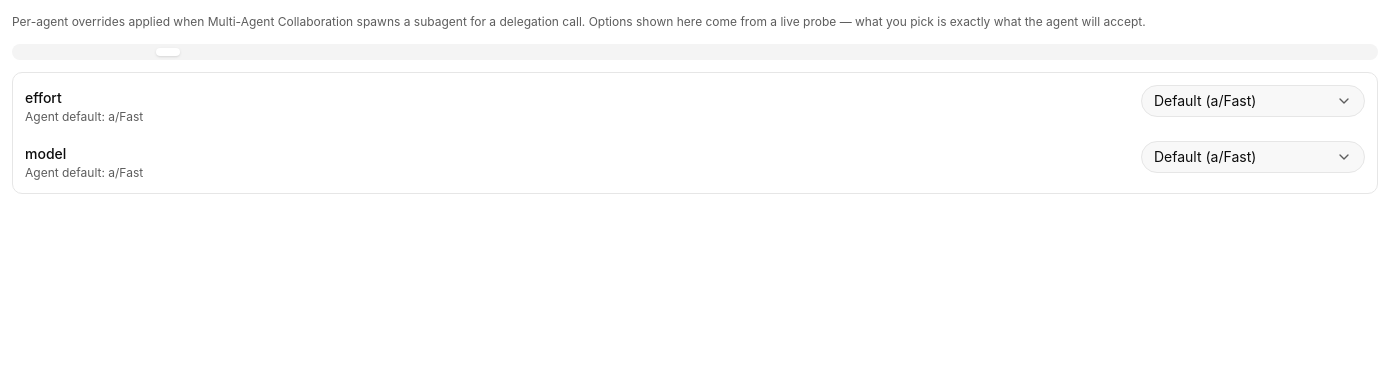
Test case: delegation model defaults › preserves non-model lists and server-supplied group labels
The image size is (1378, 388).
Click the dropdown labelled "Default (a/Fast)" in the row of "effort".
click(1253, 101)  # box [1141,85,1365,117]
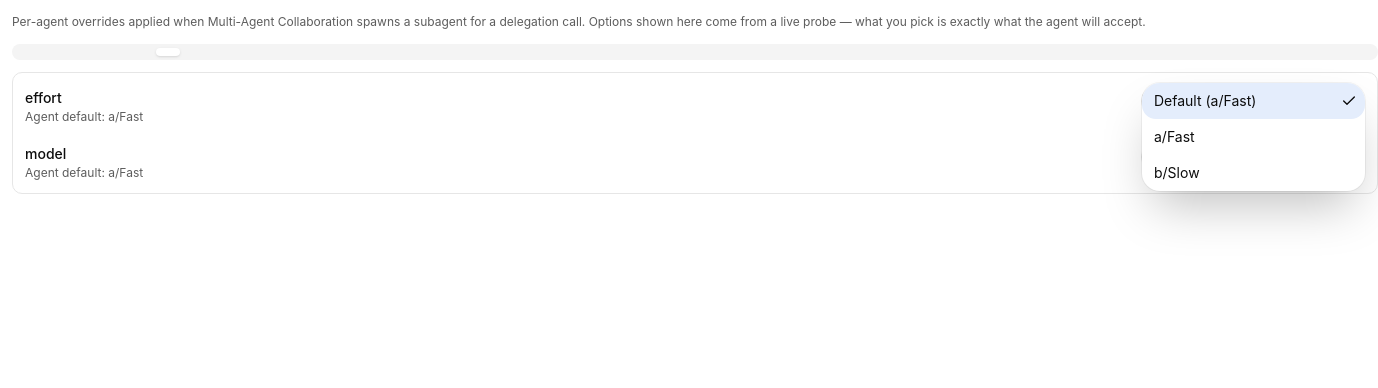
Result: the option "b/Slow" is shown at [1154,164,1200,181]
Press Escape
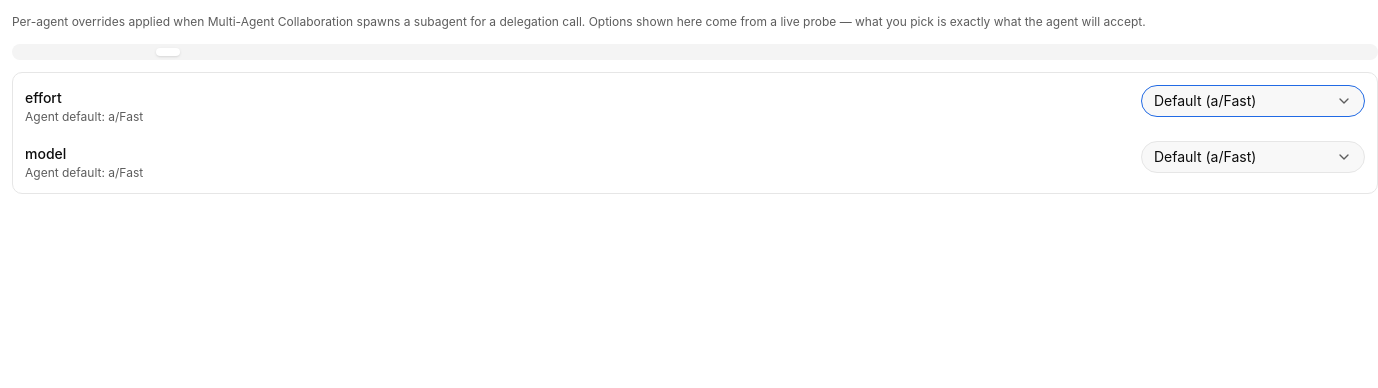
Click the dropdown labelled "Default (a/Fast)" in the row of "model".
click(1253, 157)  # box [1141,141,1365,173]
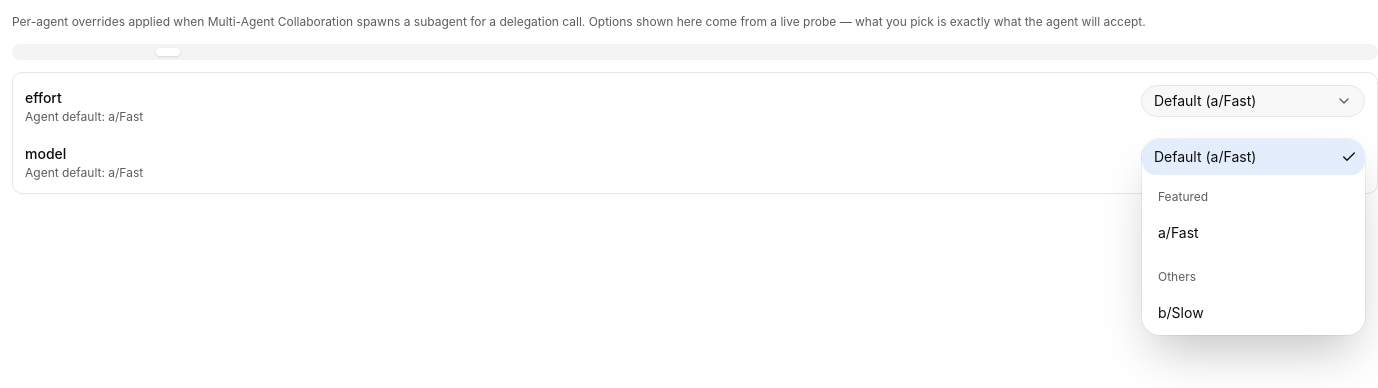
Result: the option "b/Slow" is shown at [1158,304,1204,321]
